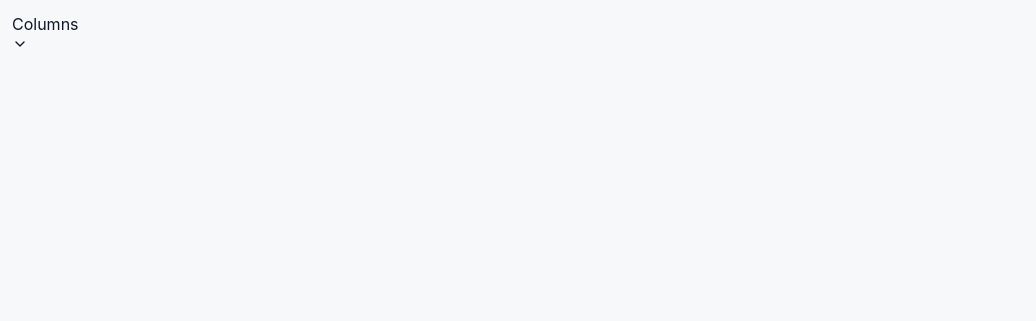
Test: ColumnChooser › menu interaction › closes menu when button is clicked again
Click the button "Columns" at x=45, y=32, box [12,12,78,52]
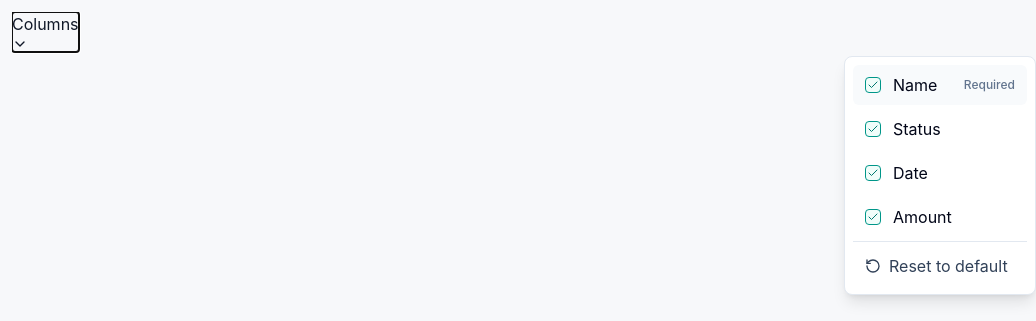
Click the button "Columns" at x=45, y=32, box [12,12,78,52]
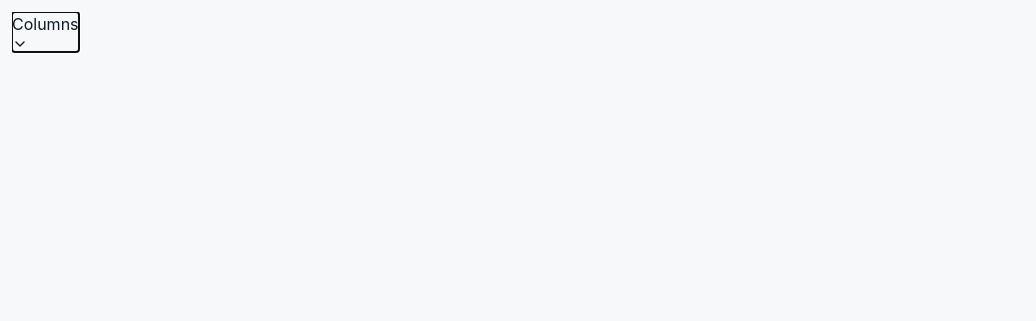
Check: the menu is gone
